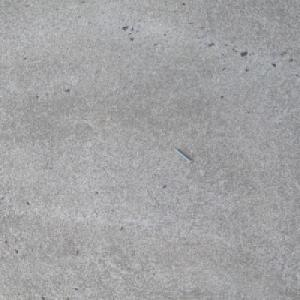Screw: (172, 147, 193, 162)
